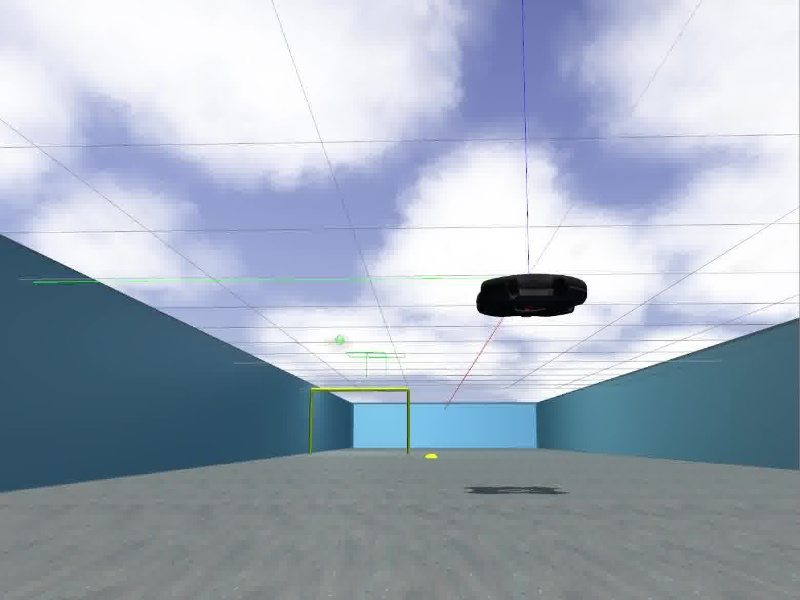gate: (307, 386, 412, 456)
